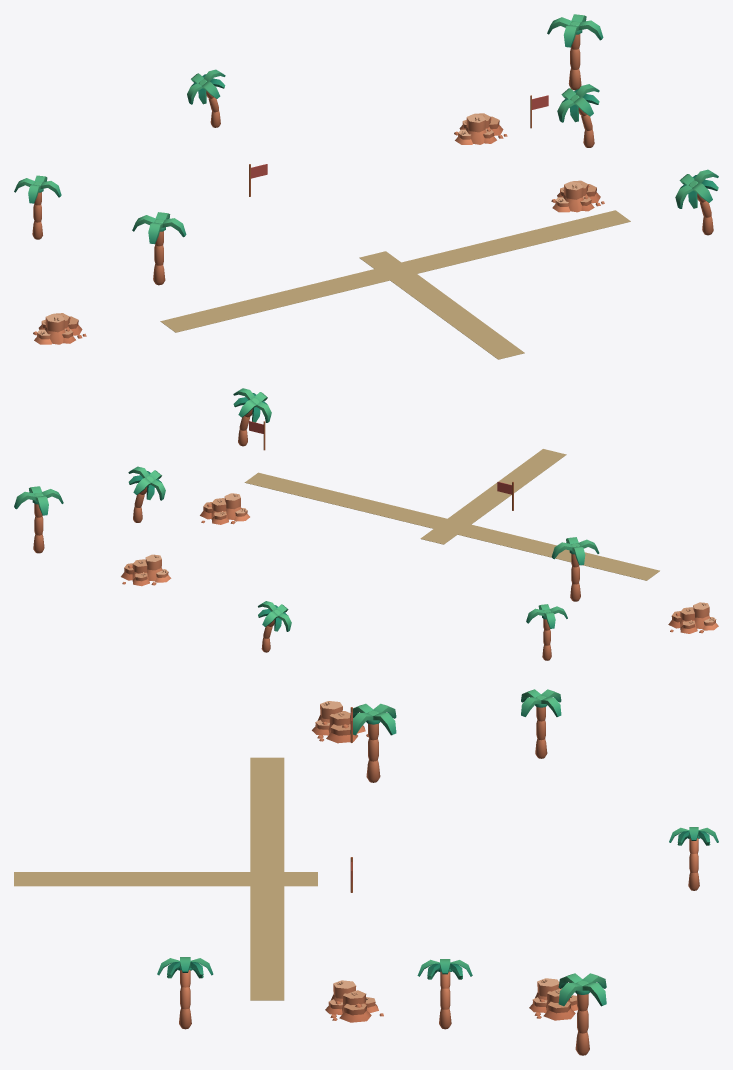
File: harbor_enemy_scenery.glb
The picture shows the model from 3 angles, top to bottom: view 1: azimuth 30°, elevation 25°; view 2: azimuth 150°, elevation 25°; view 3: azimuth 270°, elevation 25°; orthographic projection. The views are drawn at different scales.
Parts seen in each view (by area): view 1: Packed-sand lane.018, Packed-sand lane.019, Packed-sand lane.020, palm-detailed-bend.016, palm-straight.015, palm-detailed-bend.015, palm-straight.016, rocks-sand-a.017, rocks-sand-a.016, rocks-sand-a.018, palm-detailed-bend.017, palm-straight.017; view 2: Packed-sand lane.018, Packed-sand lane.020, Packed-sand lane.019, palm-detailed-bend.016, palm-straight.015, rocks-sand-a.017, rocks-sand-a.016, rocks-sand-a.018, palm-detailed-bend.015, palm-straight.016, palm-detailed-bend.017, palm-straight.017; view 3: Packed-sand lane.018, Packed-sand lane.020, Packed-sand lane.019, palm-straight.015, palm-straight.016, rocks-sand-a.016, palm-detailed-bend.016, rocks-sand-a.017, palm-straight.017, rocks-sand-a.018, palm-detailed-bend.015, palm-detailed-bend.017.
Boxes of the visible parts, <box> form: Packed-sand lane.018: <box>359,251,524,359</box>; Packed-sand lane.019: <box>160,269,389,332</box>; Packed-sand lane.020: <box>401,210,630,273</box>; palm-detailed-bend.016: <box>675,169,718,235</box>; palm-straight.015: <box>547,14,603,90</box>; palm-detailed-bend.015: <box>557,84,599,147</box>; palm-straight.016: <box>132,212,186,285</box>; rocks-sand-a.017: <box>33,313,86,344</box>; rocks-sand-a.016: <box>551,180,604,212</box>; rocks-sand-a.018: <box>454,113,507,144</box>; palm-detailed-bend.017: <box>187,69,225,127</box>; palm-straight.017: <box>14,175,61,239</box>; Packed-sand lane.018: <box>420,449,566,544</box>; Packed-sand lane.020: <box>244,472,446,528</box>; Packed-sand lane.019: <box>457,524,659,580</box>; palm-detailed-bend.016: <box>233,388,271,446</box>; palm-straight.015: <box>14,486,63,553</box>; rocks-sand-a.017: <box>668,602,718,633</box>; rocks-sand-a.016: <box>200,493,249,524</box>; rocks-sand-a.018: <box>121,554,171,586</box>; palm-detailed-bend.015: <box>128,466,165,522</box>; palm-straight.016: <box>551,537,599,601</box>; palm-detailed-bend.017: <box>258,601,291,652</box>; palm-straight.017: <box>526,604,567,660</box>; Packed-sand lane.018: <box>14,872,317,886</box>; Packed-sand lane.020: <box>250,886,284,1000</box>; Packed-sand lane.019: <box>250,757,284,871</box>; palm-straight.015: <box>558,973,606,1055</box>; palm-straight.016: <box>350,703,396,782</box>; rocks-sand-a.016: <box>325,980,383,1022</box>; palm-detailed-bend.016: <box>157,957,213,1029</box>; rocks-sand-a.017: <box>312,701,368,743</box>; palm-straight.017: <box>521,689,561,758</box>; rocks-sand-a.018: <box>529,978,577,1020</box>; palm-detailed-bend.015: <box>417,959,472,1029</box>; palm-detailed-bend.017: <box>669,827,718,890</box>.
Bounding box in the file's own units: 50.18 × 8.39 × 41.75.
6 materials, 3 textured.
